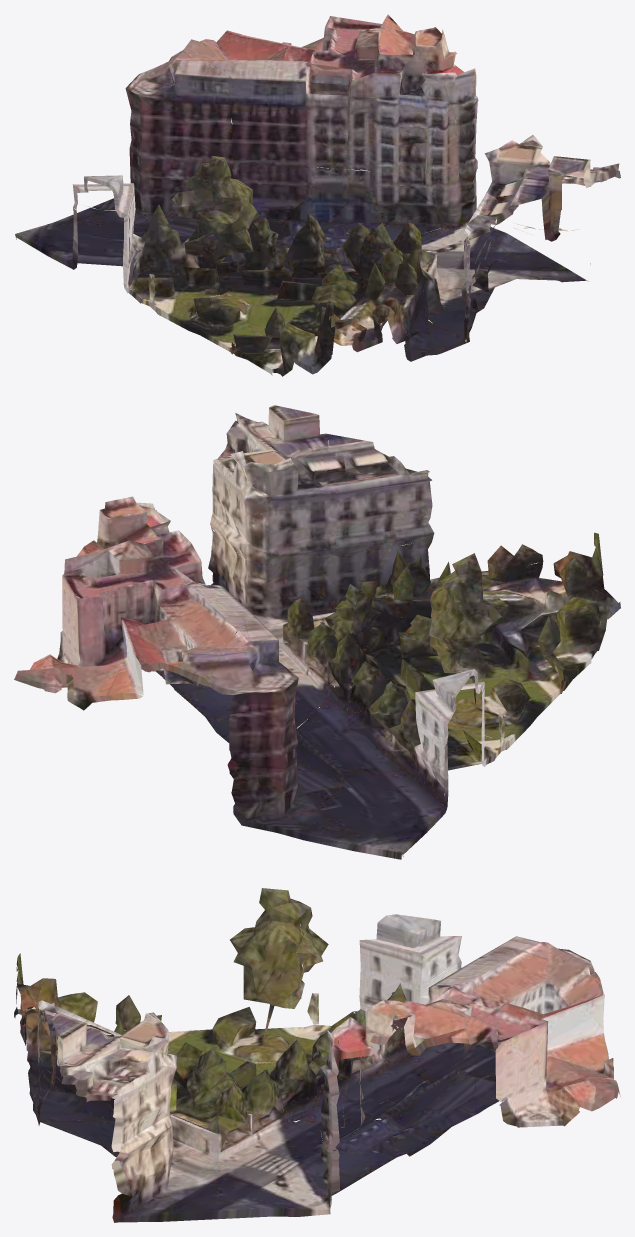
3 renders of one model, top to bottom at view 1: azimuth 30°, elevation 25°; view 2: azimuth 150°, elevation 25°; view 3: azimuth 270°, elevation 25°, orthographic. The views are drawn at different scales.
Visible parts, largest first — view 1: Mesh_0; view 2: Mesh_0; view 3: Mesh_0.
Part boxes in pixels (box(x1,y1,x2,y2)): Mesh_0: box(15, 14, 620, 376); Mesh_0: box(14, 405, 620, 859); Mesh_0: box(14, 888, 620, 1222).
Size of the model in its own units: 66.58 by 33.27 by 82.66.
Materials: 2 (2 with a texture image).
